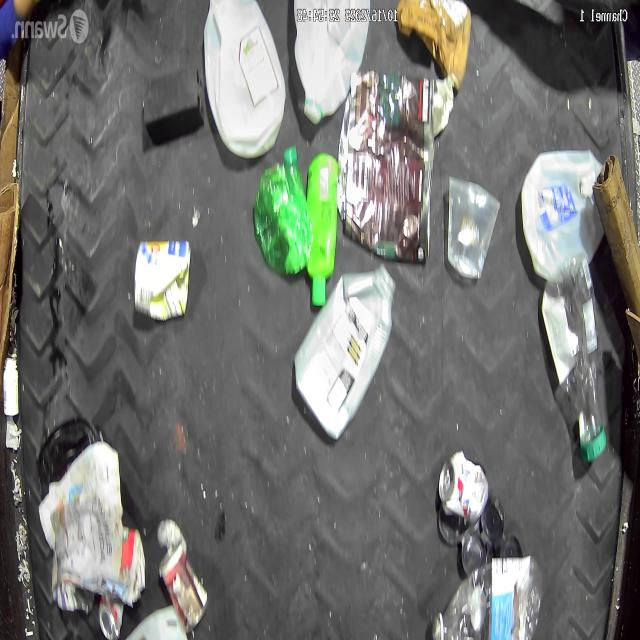can: (158, 538, 208, 632), (438, 449, 489, 520), (97, 593, 125, 640)
milk_jug: (205, 0, 285, 158), (524, 150, 606, 282), (296, 12, 370, 126)
non_white_jug: (292, 264, 398, 438)
plastic_bottle: (540, 253, 606, 463), (431, 555, 542, 640)
